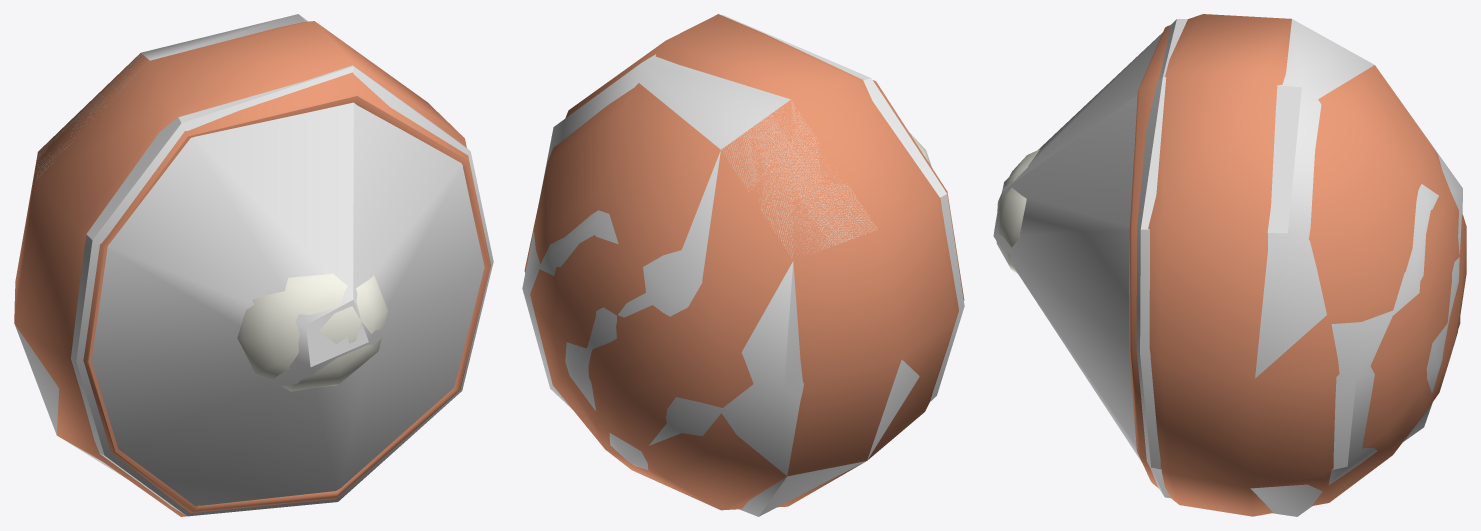
Rendered from mushroom_amanita.fbx.
3 renders of one model, left to right at view 1: azimuth 30°, elevation 25°; view 2: azimuth 150°, elevation 25°; view 3: azimuth 270°, elevation 25°, orthographic. The views are drawn at different scales.
Visible parts, largest first — view 1: c_mushroom_amanita, mushroom_amanita; view 2: mushroom_amanita, c_mushroom_amanita; view 3: mushroom_amanita, c_mushroom_amanita.
Part boxes in pixels (box(x1,y1,x2,y2)): c_mushroom_amanita: box(14, 14, 493, 516); mushroom_amanita: box(14, 21, 490, 516); mushroom_amanita: box(524, 14, 964, 510); c_mushroom_amanita: box(522, 14, 964, 516); mushroom_amanita: box(995, 14, 1466, 516); c_mushroom_amanita: box(993, 19, 1462, 516).
Size of the model in its own units: 13.04 by 13.61 by 13.03.
